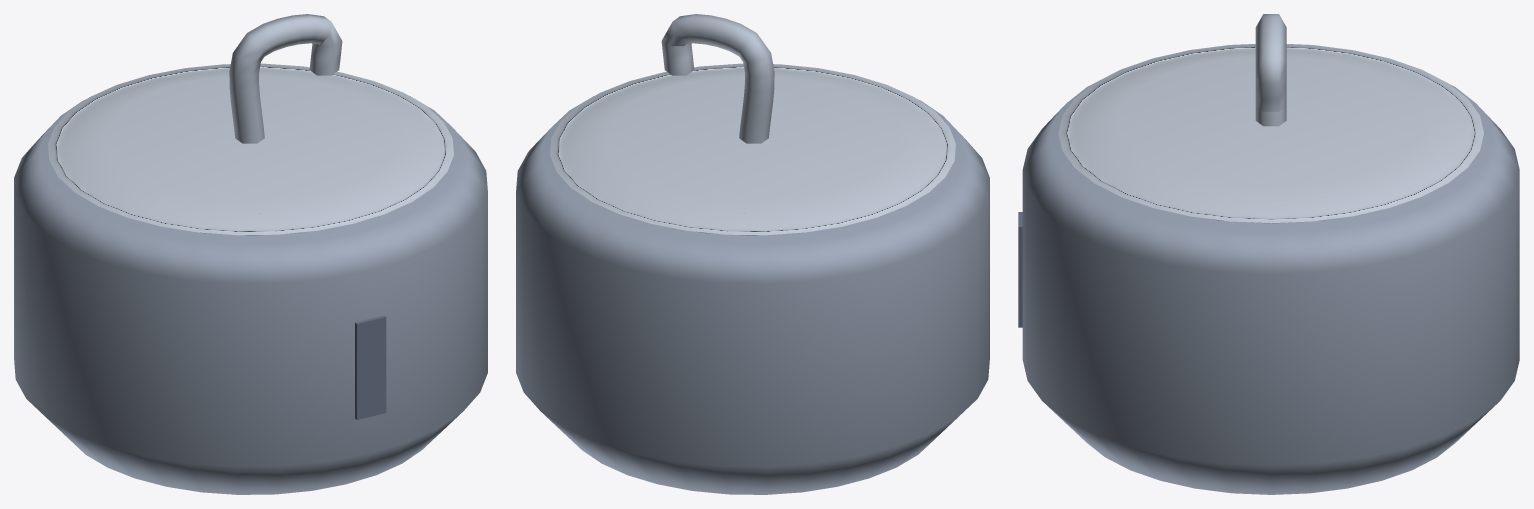
Rendered from pet-fountain.glb.
3 views of the same model, side by side, from view 1: azimuth 30°, elevation 25°; view 2: azimuth 150°, elevation 25°; view 3: azimuth 270°, elevation 25° (orthographic). The views are drawn at different scales.
Visible parts, largest first — view 1: body, light, soft, dark; view 2: body, light, soft; view 3: body, light, soft, dark.
Boxes of the visible parts, x1,y1,x2,y2 form: body: [14, 96, 487, 494]; light: [48, 63, 453, 235]; soft: [229, 14, 342, 143]; dark: [355, 315, 386, 419]; body: [516, 96, 989, 494]; light: [550, 63, 955, 235]; soft: [661, 14, 774, 143]; body: [1022, 84, 1519, 494]; light: [1058, 44, 1483, 223]; soft: [1255, 14, 1286, 126]; dark: [1018, 212, 1022, 327].
Bounding box in the file's own units: 0.224 × 0.2008 × 0.226.
